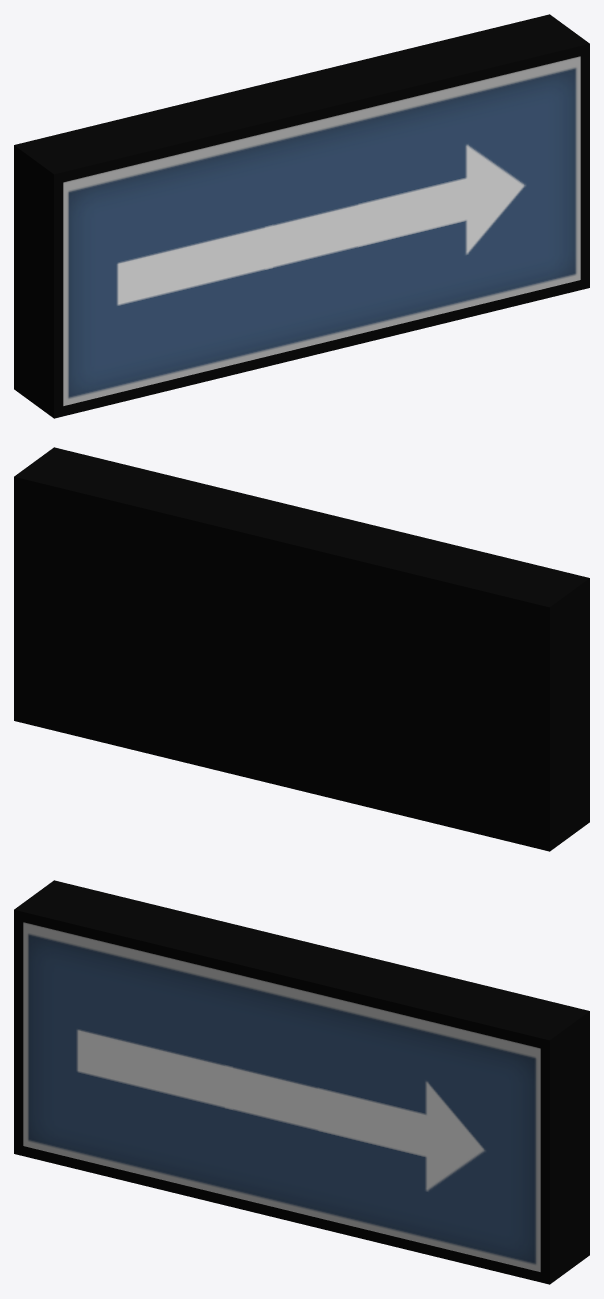
Rendered from Arrow2.fbx.
3 views of the same model, one above another, from view 1: azimuth 30°, elevation 25°; view 2: azimuth 150°, elevation 25°; view 3: azimuth 330°, elevation 25° (orthographic).
Visible parts, largest first — view 1: Cube; view 2: Cube; view 3: Cube.
Boxes of the visible parts, x1=… form: Cube: x1=14, y1=14, x2=589, y2=418; Cube: x1=14, y1=447, x2=589, y2=851; Cube: x1=14, y1=880, x2=589, y2=1284.
Size of the model in its own units: 279 by 121 by 36.18.
